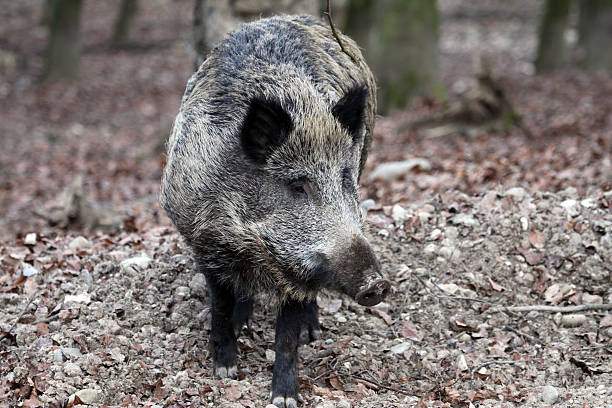pig: (233, 90, 396, 320)
